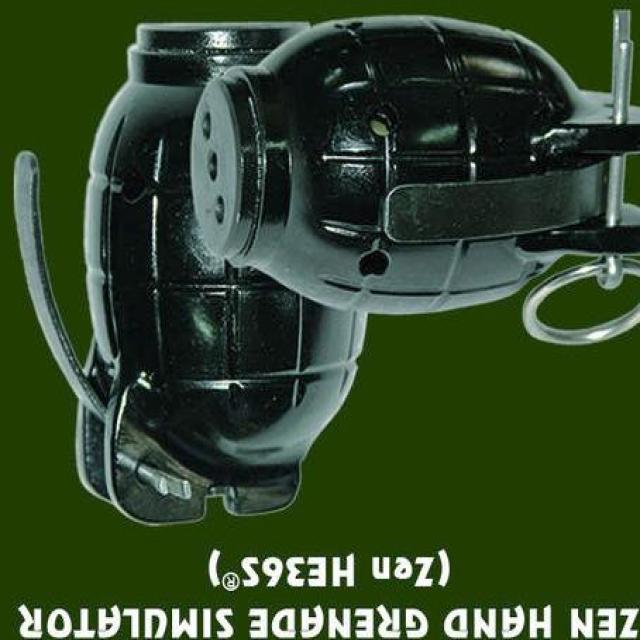grenade: (14, 23, 369, 528), (190, 6, 639, 346)
